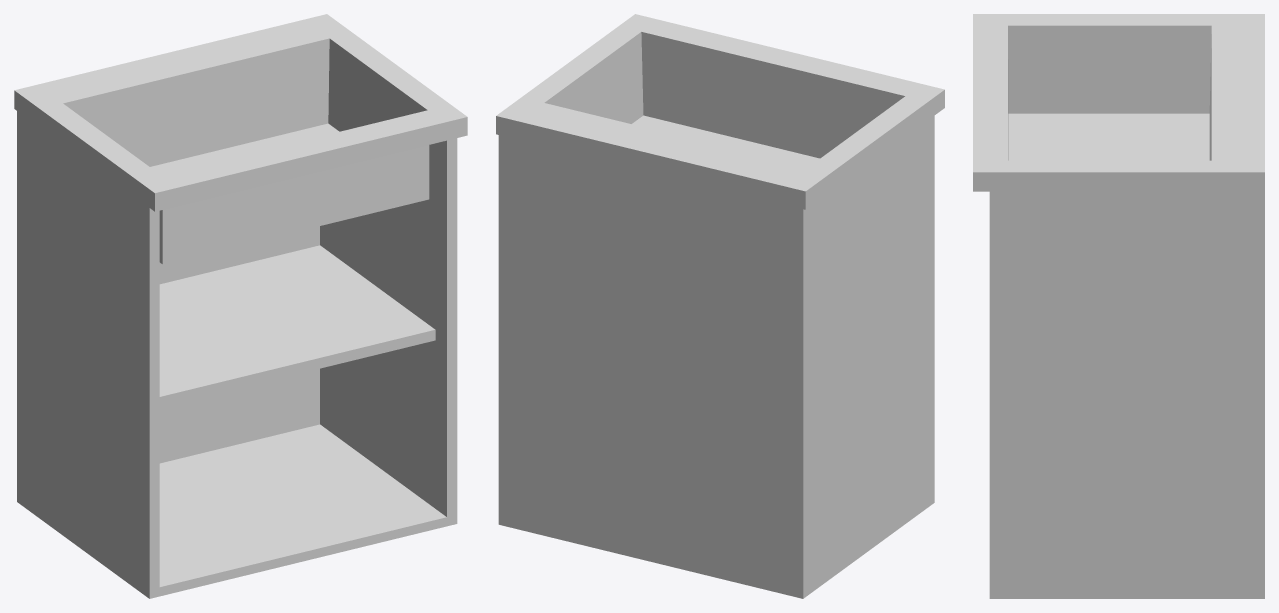
Rendered from Bathroom_C1_03.fbx.
3 renders of one model, left to right at view 1: azimuth 30°, elevation 25°; view 2: azimuth 150°, elevation 25°; view 3: azimuth 270°, elevation 25°, orthographic. The views are drawn at different scales.
Parts seen in each view (by area): view 1: Bathroom_C1_03; view 2: Bathroom_C1_03; view 3: Bathroom_C1_03.
Boxes of the visible parts, bbox=[...] form: Bathroom_C1_03: bbox=[14, 14, 467, 598]; Bathroom_C1_03: bbox=[496, 14, 944, 598]; Bathroom_C1_03: bbox=[973, 14, 1264, 598].
Bounding box in the file's own units: 61 × 76.82 × 47.51.
